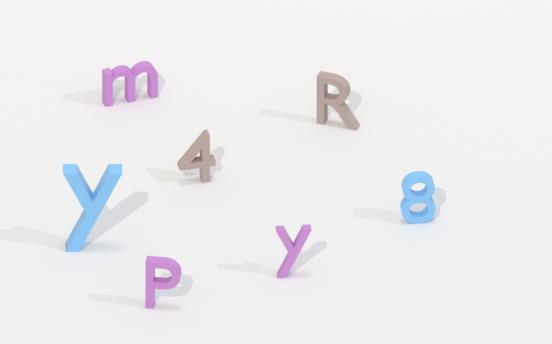4: (173, 126, 221, 184)
8: (397, 168, 440, 228)
R-hoa: (316, 68, 362, 136)
Y: (60, 158, 128, 260), (273, 220, 312, 282)
m: (97, 58, 162, 109)
p: (140, 253, 183, 314)
